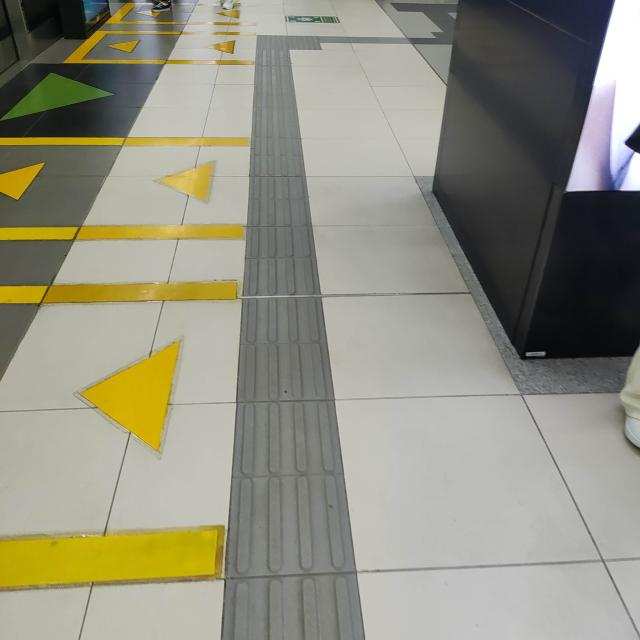kanan: (243, 24, 366, 59)
